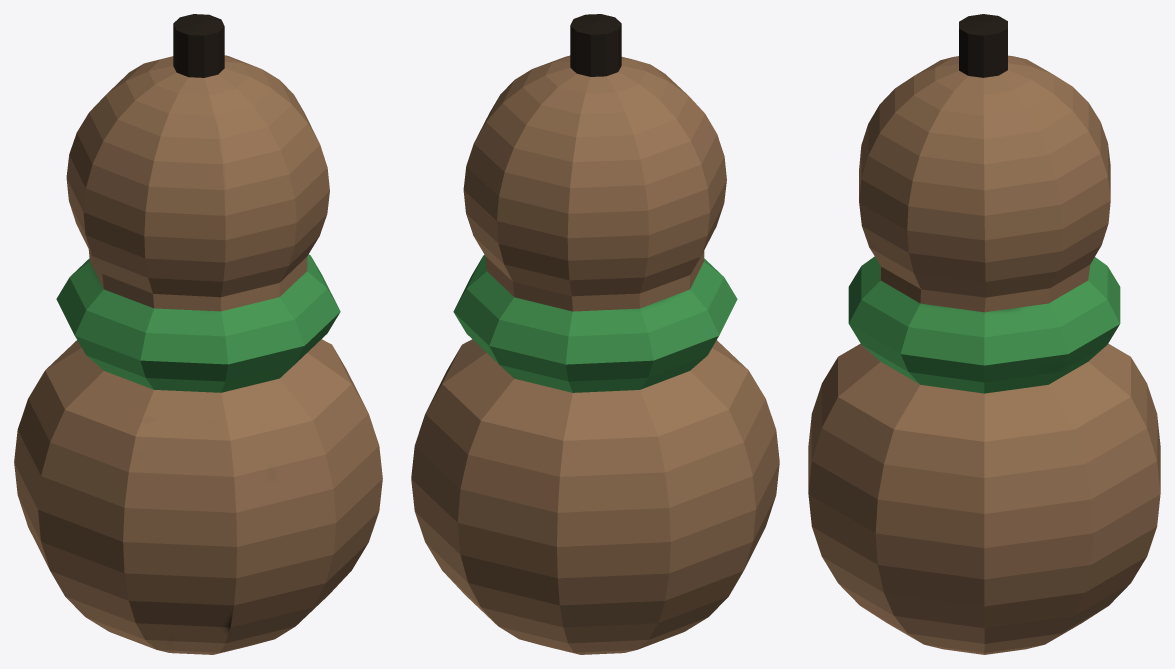
The model's file is garrafa_madeira.fbx.
3 views of the same model, side by side, from view 1: azimuth 30°, elevation 25°; view 2: azimuth 150°, elevation 25°; view 3: azimuth 270°, elevation 25° (orthographic).
Visible parts, largest first — view 1: Sphere; view 2: Sphere; view 3: Sphere.
Part boxes in pixels (<box>): Sphere: <box>14,14,382,654</box>; Sphere: <box>411,14,779,654</box>; Sphere: <box>808,14,1160,654</box>.
Bounding box in the file's own units: 200 × 367 × 190.
Materials: 1 (1 with a texture image).
